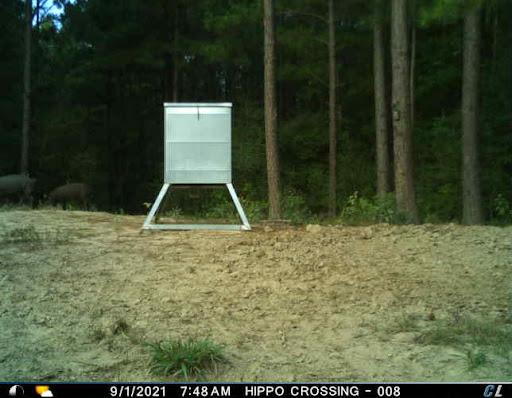Hog: (0, 169, 42, 212), (47, 180, 94, 218)
